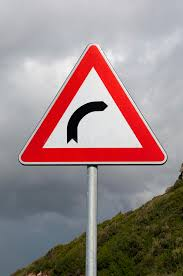Bend_to_right: (18, 42, 168, 166)
